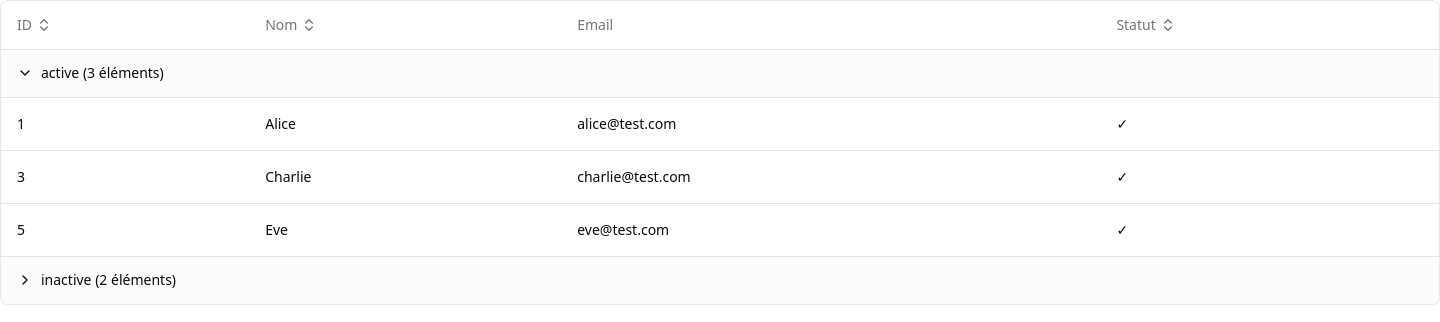
DataTable - Grouping Functionality › Accordion mode › allows only one group to be open at a time in accordion mode
Expected: the text "active (3 éléments)" is shown, [41,63,164,83]
Expected: the text "Alice" is shown, [249,97,561,150]
// Cliquer sur le groupe inactive pour l'ouvrir
Click the text "inactive (2 éléments)" at point(108, 280), box [41,270,176,290]
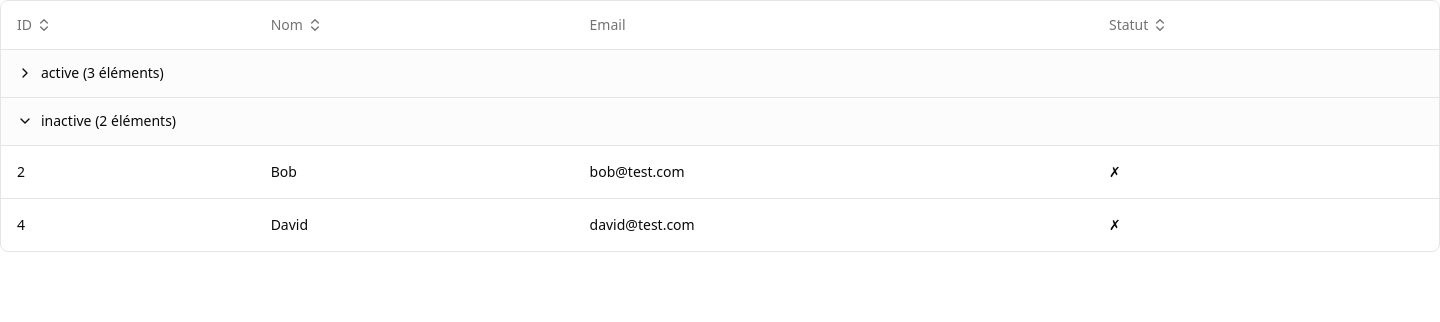
Now the text "Bob" is shown, box [255,145,574,198]
Now the text "Alice" is gone
